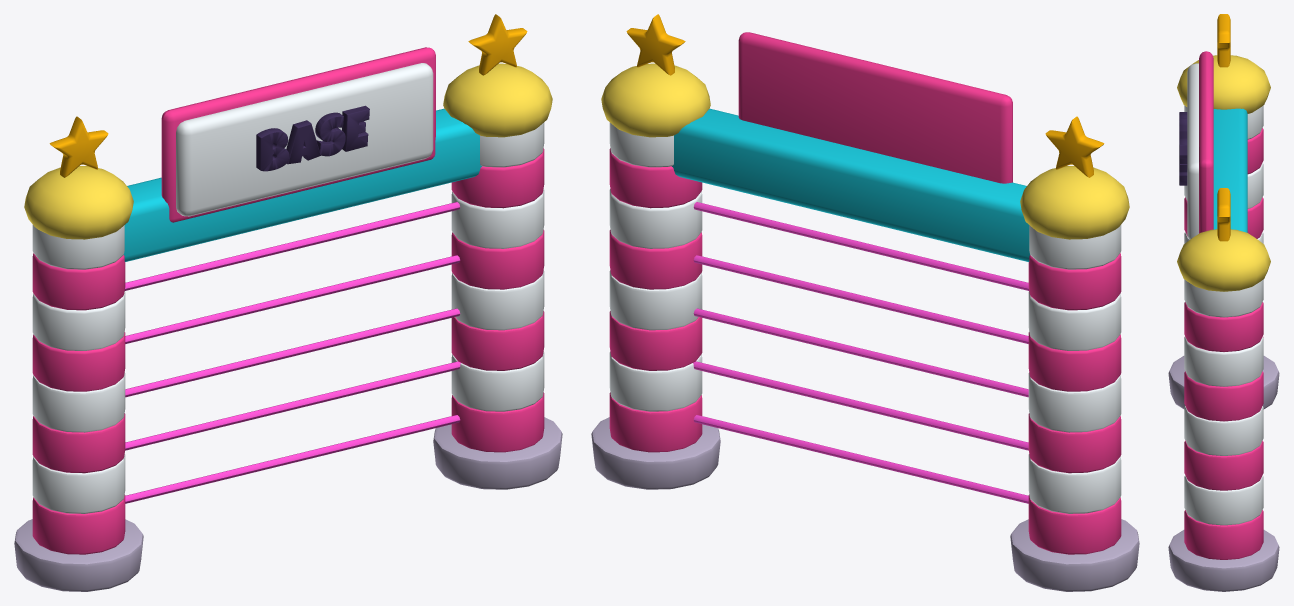
Rendered from base_gate.obj.
3 renders of one model, left to right at view 1: azimuth 30°, elevation 25°; view 2: azimuth 150°, elevation 25°; view 3: azimuth 270°, elevation 25°, orthographic. The views are drawn at different scales.
Parts seen in each view (by area): view 1: base_gate, base_gate_Neon; view 2: base_gate, base_gate_Neon; view 3: base_gate.
Part boxes in pixels (x1=…): base_gate: x1=14, y1=14, x2=562, y2=591; base_gate_Neon: x1=124, y1=202, x2=460, y2=503; base_gate: x1=591, y1=14, x2=1139, y2=591; base_gate_Neon: x1=693, y1=202, x2=1029, y2=503; base_gate: x1=1168, y1=14, x2=1279, y2=591.
Size of the model in its own units: 17.78 by 14.36 by 3.78.
2 materials, 2 textured.
